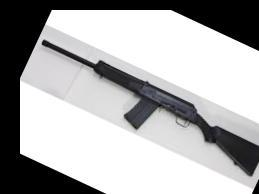larga: (41, 39, 259, 176)
